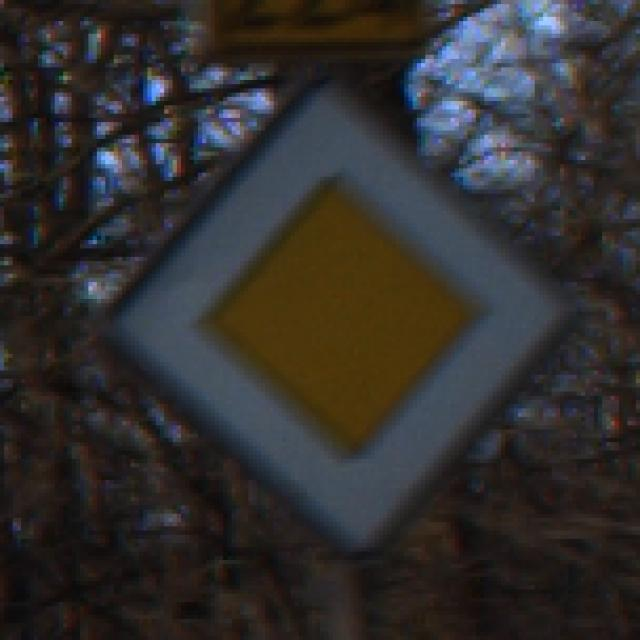Main Road: (60, 60, 586, 586)
